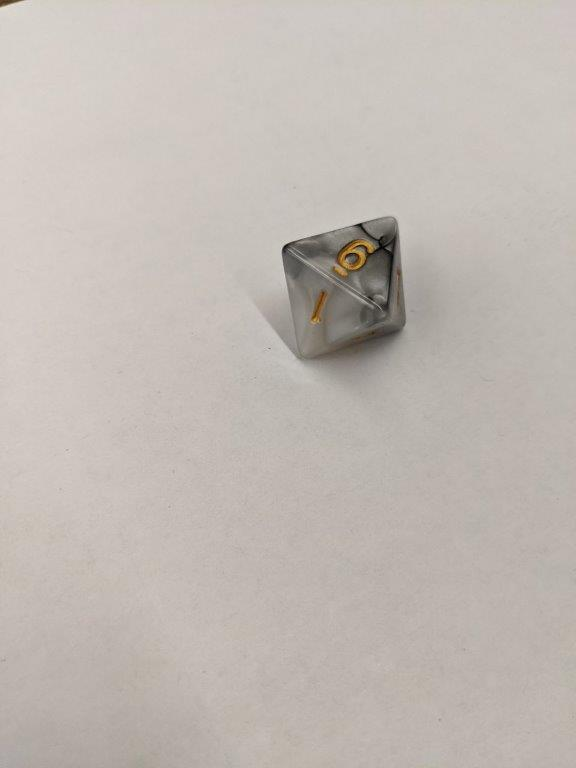d8-6: (280, 215, 410, 361)
